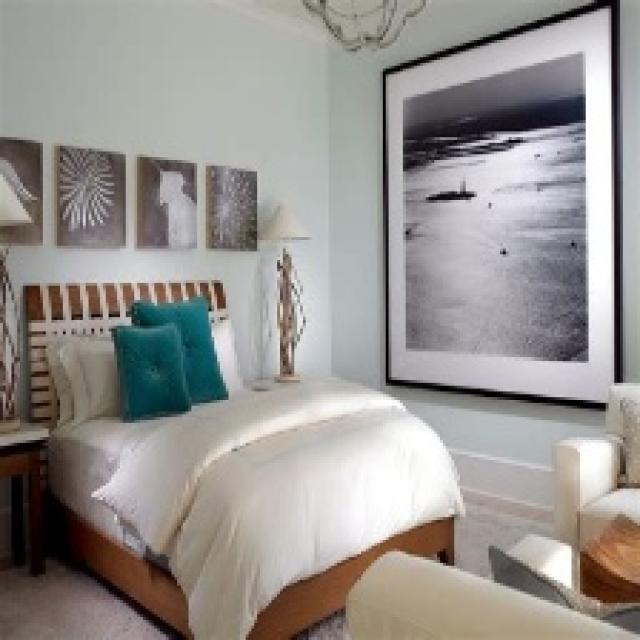Bed: (20, 277, 463, 637)
